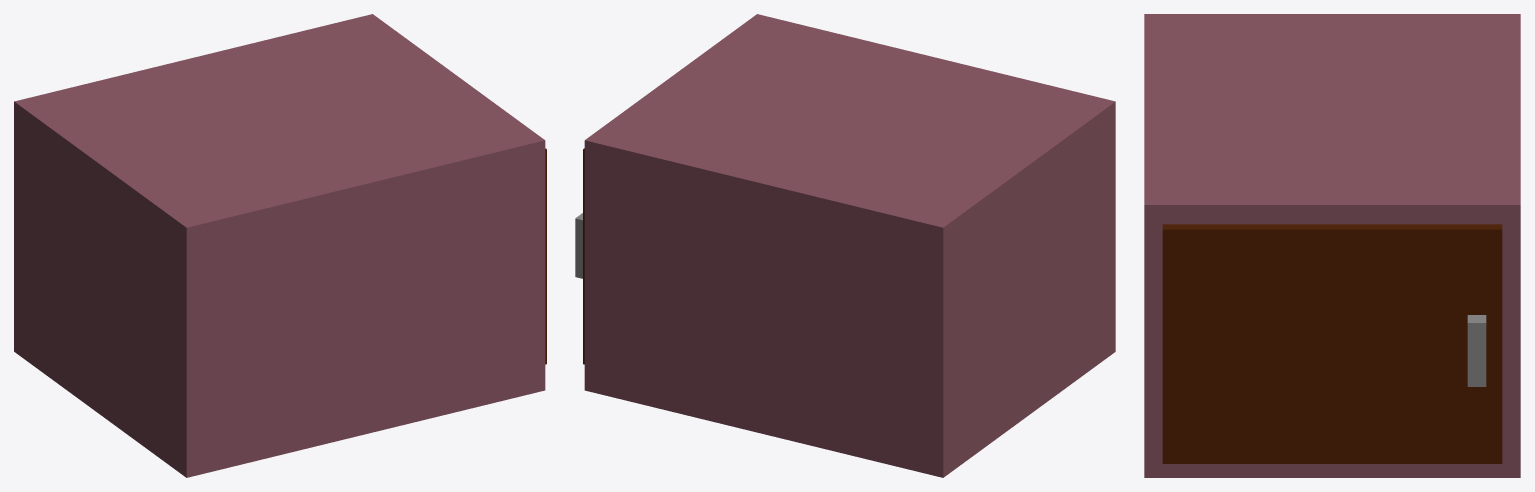
The model's file is Res01_Kitchen_HangBox3.fbx.
3 renders of one model, left to right at view 1: azimuth 30°, elevation 25°; view 2: azimuth 150°, elevation 25°; view 3: azimuth 270°, elevation 25°, orthographic. The views are drawn at different scales.
Parts seen in each view (by area): view 1: Res01_Kitchen_HangBox3; view 2: Res01_Kitchen_HangBox3; view 3: Res01_Kitchen_HangBox3.
Part boxes in pixels (x1,y1,x2,y2): Res01_Kitchen_HangBox3: (14,14,546,477); Res01_Kitchen_HangBox3: (575,14,1115,477); Res01_Kitchen_HangBox3: (1144,14,1520,477).
Size of the model in its own units: 128 by 80 by 100.
